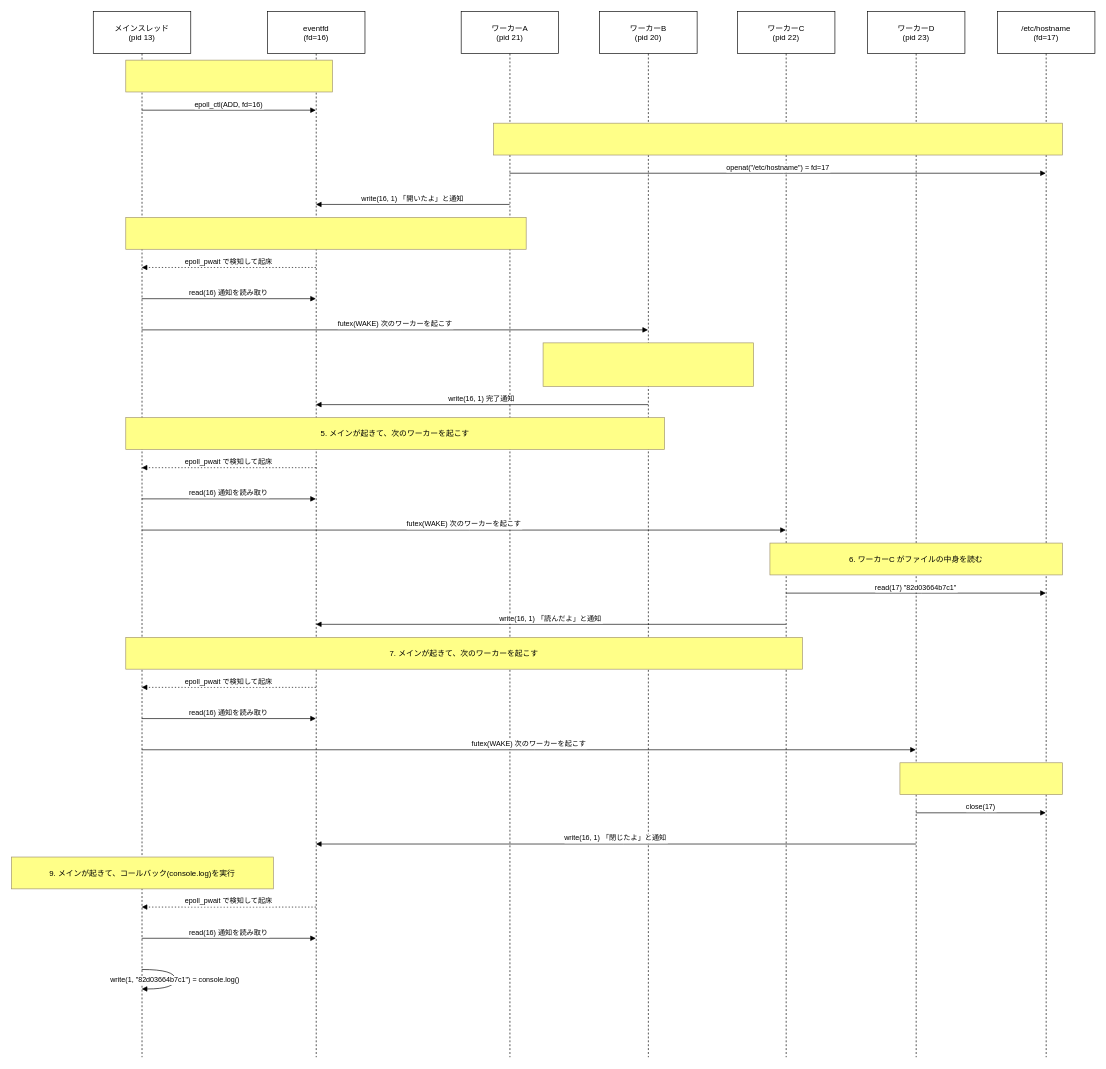
This 1106x1069 diagram has some shape labels left out. Here are the shapes that lost their labels. From the top down, the centre of each, then its label:
At (228,75): "1. eventfd を epoll の監視リストに登録".
At (777,139): "2. ワーカーA がファイルを開く".
At (325,233): "3. メインが通知を受け取って起きる".
At (648,364): "4. ワーカーB が完了通知 (ファイル I/O の syscall は発行していない)".
At (980,778): "8. ワーカーD がファイルを閉じる".
